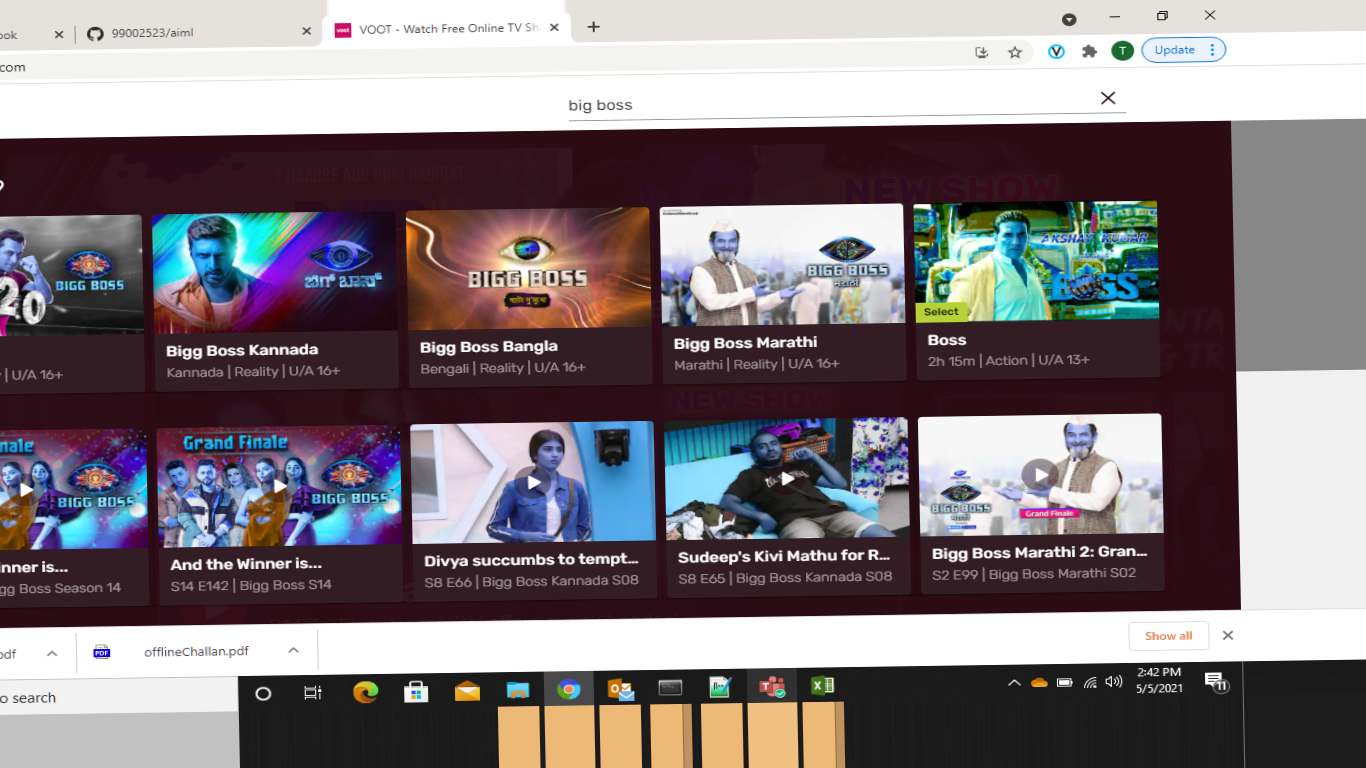searchtextbox: (556, 82, 1130, 133)
